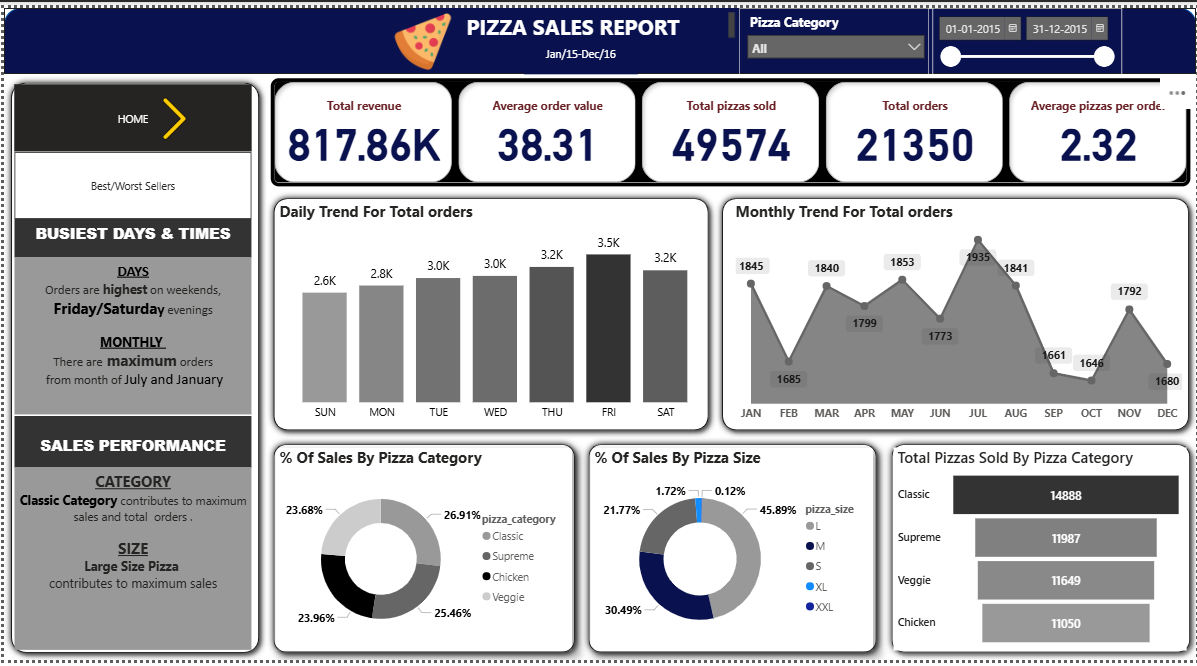

Layout of this report page (visuals, bound fields, positions):
{"tool":"powerbi","page":{"name":"HOME","canvas":[1500,820],"ordinal":0},"visuals":[{"type":"cardVisual","fields":{"Data":["pizza_db sales dashboard excel file.total revenue","pizza_db sales dashboard excel file.average order value","pizza_db sales dashboard excel file.total pizzas sold","pizza_db sales dashboard excel file.total orders","pizza_db sales dashboard excel file.average pizzas per order"]},"box":[330,83.3,1170,146.7],"z":0},{"type":"shape","box":[0,0,1500,83.3],"z":1000},{"type":"textbox","box":[515.8,0,408.8,43.9],"z":2000},{"type":"textbox","box":[655,43.3,141.7,40],"z":3000},{"type":"shape","box":[330,230,565,310],"z":4000},{"type":"columnChart","title":"Daily Trend For Total orders ","fields":{"Category":["pizza_db sales dashboard excel file.order day"],"Y":["pizza_db sales dashboard excel file.Total orders"]},"box":[342.1,243.9,552.6,284.2],"z":5000},{"type":"shape","box":[895,230,605,310],"z":6000},{"type":"areaChart","title":"Monthly Trend For Total orders","fields":{"Y":["pizza_db sales dashboard excel file.Total orders"],"Category":["pizza_db sales dashboard excel file.Order month"]},"box":[915,243.3,571.7,285],"z":7000},{"type":"shape","box":[330,540,396.7,280],"z":8000},{"type":"shape","box":[1106.7,540,393.3,280],"z":9000},{"type":"shape","box":[726.7,540,380,280],"z":10000},{"type":"donutChart","title":"% Of Sales By Pizza Category","fields":{"Category":["pizza_db sales dashboard excel file.pizza_category"],"Y":["pizza_db sales dashboard excel file.Total revenue"]},"box":[341.7,553.3,373.3,255],"z":11000},{"type":"donutChart","title":"% Of Sales By Pizza Size","fields":{"Y":["pizza_db sales dashboard excel file.Total revenue"],"Category":["pizza_db sales dashboard excel file.pizza_size"]},"box":[738.3,553.3,355,255],"z":12000},{"type":"funnel","title":"Total Pizzas Sold By Pizza Category","fields":{"Category":["pizza_db sales dashboard excel file.pizza_category"],"Y":["pizza_db sales dashboard excel file.Total pizzas sold"]},"box":[1118.3,553.3,368.3,255],"z":13000},{"type":"shape","box":[0,84.2,329.8,735.1],"z":14000},{"type":"textbox","box":[14,264.9,298.2,49.1],"z":15000},{"type":"textbox","box":[14,314,298.2,198.2],"z":16000},{"type":"textbox","box":[14,512.3,298.2,64.9],"z":17000},{"type":"textbox","box":[14,577.2,298.2,229.8],"z":18000},{"type":"slicer","fields":{"Values":["pizza_db sales dashboard excel file.pizza_category"]},"box":[924.6,0,243.9,84.2],"z":19000},{"type":"slicer","fields":{"Values":["pizza_db sales dashboard excel file.order_date"]},"box":[1161.4,0,243.9,84.2],"z":20000},{"type":"pageNavigator","box":[14,96.5,298.2,84.2],"z":21000},{"type":"pageNavigator","box":[14,180.7,298.2,84.2],"z":22000},{"type":"image","box":[424.6,0,205.3,84.2],"z":23000},{"type":"image","box":[64.9,107,300,63.2],"z":23001}]}

Visuals, with their boxes in screenshot pixels (x1, y1, x2, y2), scaled from the page's 1500x820 canvas onto the 1197x666 screenshot:
cardVisual - pizza_db sales dashboard excel file.total revenue x pizza_db sales dashboard excel file.average order value: (left=263, top=68, right=1196, bottom=187)
shape: (left=0, top=0, right=1196, bottom=68)
textbox: (left=412, top=0, right=738, bottom=36)
textbox: (left=523, top=35, right=636, bottom=68)
shape: (left=263, top=187, right=714, bottom=439)
"Daily Trend For Total orders " columnChart: (left=273, top=198, right=714, bottom=429)
shape: (left=714, top=187, right=1196, bottom=439)
"Monthly Trend For Total orders" areaChart: (left=730, top=198, right=1186, bottom=429)
shape: (left=263, top=439, right=580, bottom=665)
shape: (left=883, top=439, right=1196, bottom=665)
shape: (left=580, top=439, right=883, bottom=665)
"% Of Sales By Pizza Category" donutChart: (left=273, top=449, right=571, bottom=656)
"% Of Sales By Pizza Size" donutChart: (left=589, top=449, right=872, bottom=656)
"Total Pizzas Sold By Pizza Category" funnel: (left=892, top=449, right=1186, bottom=656)
shape: (left=0, top=68, right=263, bottom=665)
textbox: (left=11, top=215, right=249, bottom=255)
textbox: (left=11, top=255, right=249, bottom=416)
textbox: (left=11, top=416, right=249, bottom=469)
textbox: (left=11, top=469, right=249, bottom=655)
slicer - pizza_db sales dashboard excel file.pizza_category: (left=738, top=0, right=932, bottom=68)
slicer - pizza_db sales dashboard excel file.order_date: (left=927, top=0, right=1121, bottom=68)
pageNavigator: (left=11, top=78, right=249, bottom=147)
pageNavigator: (left=11, top=147, right=249, bottom=215)
image: (left=339, top=0, right=503, bottom=68)
image: (left=52, top=87, right=291, bottom=138)
